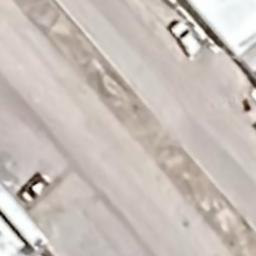SUV: (166, 18, 204, 60)
sedan: (16, 169, 52, 207)
